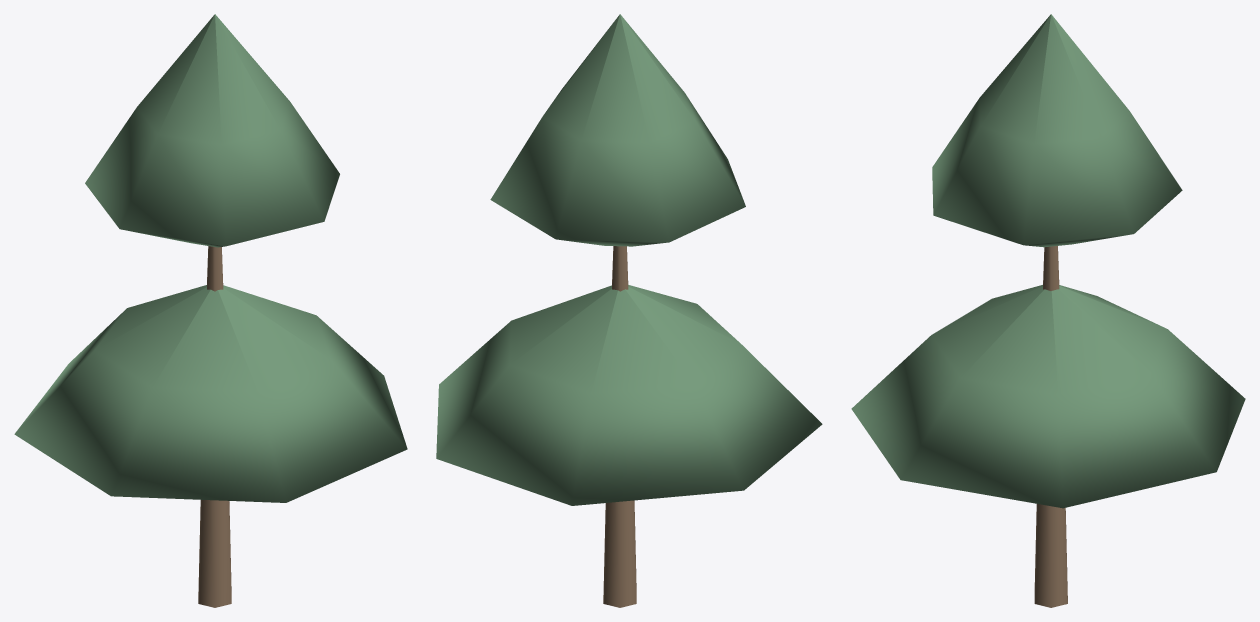
File: PineFar.glb
3 views of the same model, side by side, from view 1: azimuth 30°, elevation 25°; view 2: azimuth 150°, elevation 25°; view 3: azimuth 270°, elevation 25° (orthographic).
Visible parts, largest first — view 1: PineFar; view 2: PineFar; view 3: PineFar.
Boxes of the visible parts, x1=… form: PineFar: x1=14, y1=14, x2=407, y2=607; PineFar: x1=436, y1=14, x2=822, y2=607; PineFar: x1=851, y1=14, x2=1245, y2=607.
Size of the model in its own units: 4.05 by 6.72 by 4.1.
